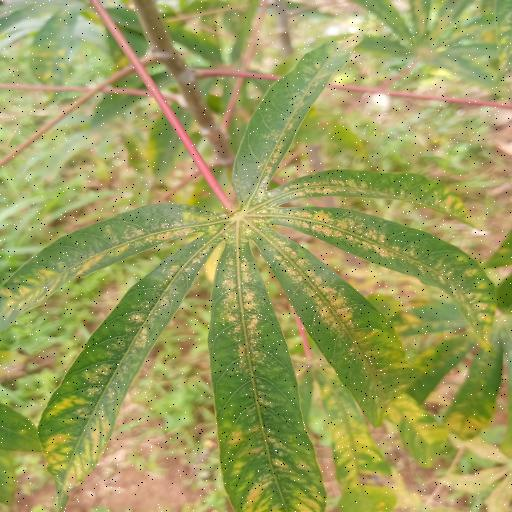Cassava_Mosaic: (12, 34, 511, 512)
